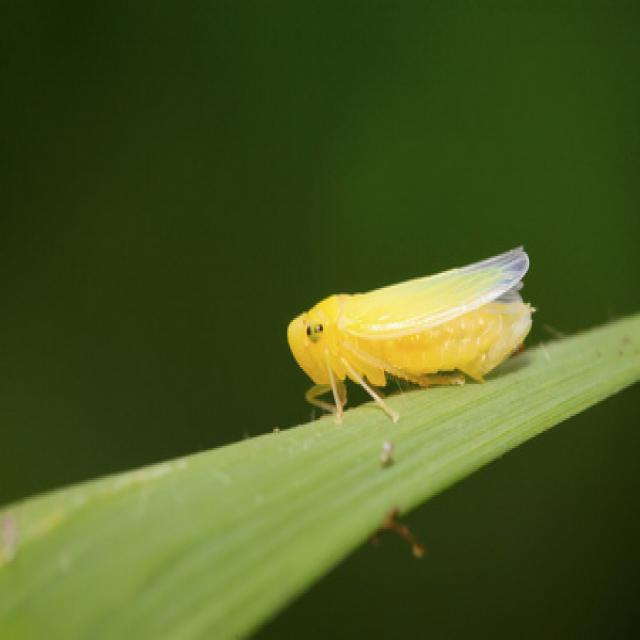Yechan: (282, 229, 548, 403)
